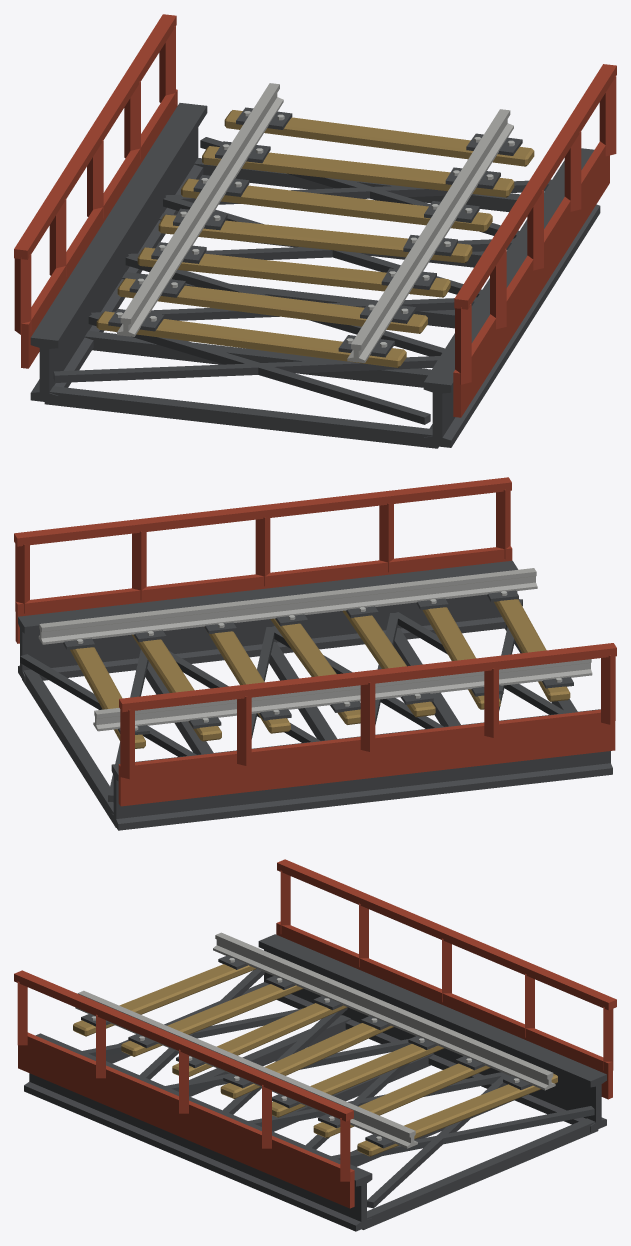
The model's file is elevated-straight-rail-ne.glb.
3 renders of one model, top to bottom at view 1: azimuth 30°, elevation 25°; view 2: azimuth 150°, elevation 25°; view 3: azimuth 270°, elevation 25°, orthographic. The views are drawn at different scales.
Visible parts, largest first — view 1: body; view 2: body; view 3: body.
Part boxes in pixels (x1,y1,x2,y2): body: (14,14,616,448); body: (14,477,616,830); body: (14,859,616,1231).
Size of the model in its own units: 3.63 by 0.825 by 3.63.
